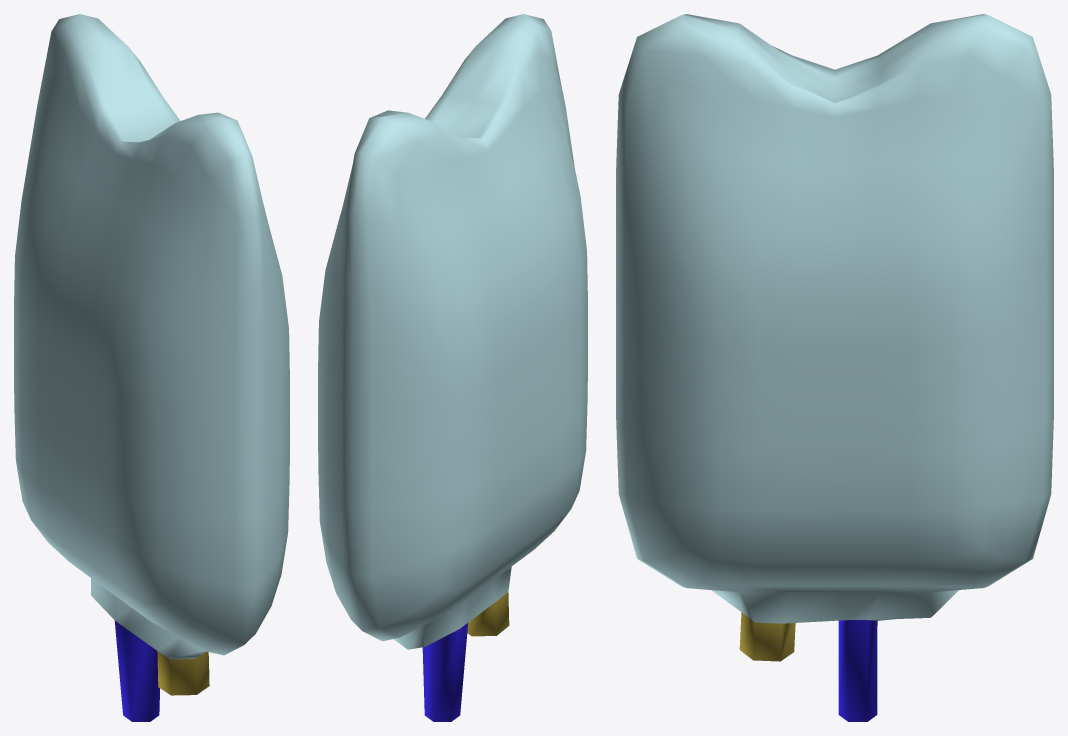
Rendered from iv_bagtextured.fbx.
3 renders of one model, left to right at view 1: azimuth 30°, elevation 25°; view 2: azimuth 150°, elevation 25°; view 3: azimuth 270°, elevation 25°, orthographic. The views are drawn at different scales.
Parts seen in each view (by area): view 1: IV drip; view 2: IV drip; view 3: IV drip.
Part boxes in pixels (bbox=[...]): IV drip: bbox=[14, 14, 289, 721]; IV drip: bbox=[318, 14, 587, 721]; IV drip: bbox=[616, 14, 1053, 721].
Bounding box in the file's own units: 23.21 × 92.33 × 52.37.
